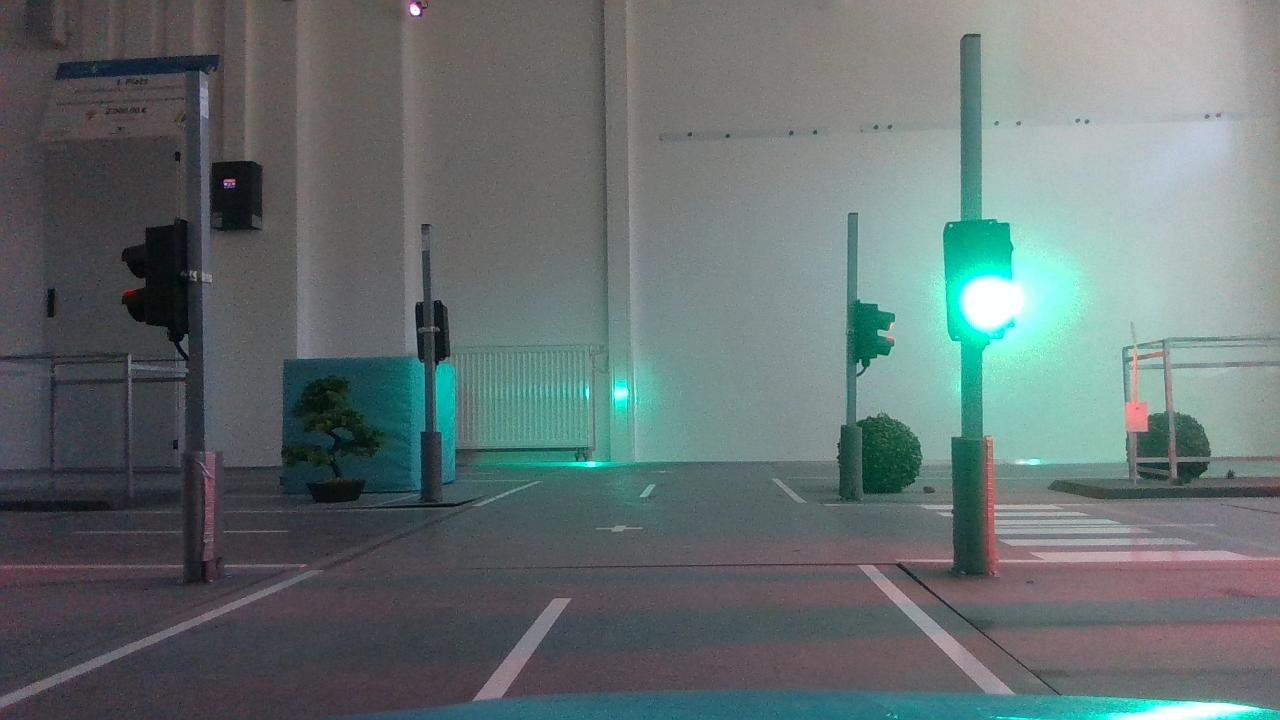traffic_light_green: (930, 207, 1036, 355)
